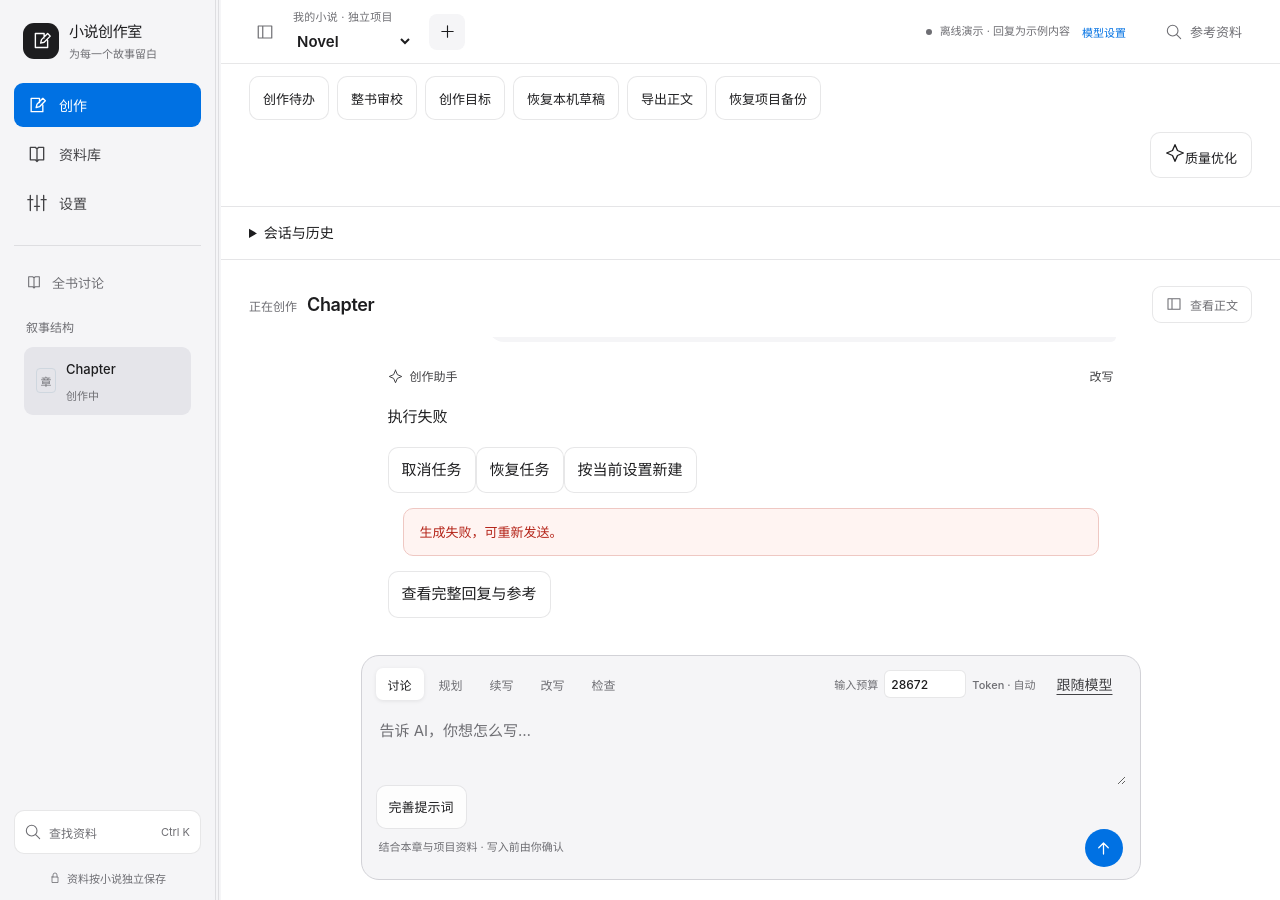
it: explicitly creates a linked new job from full instructions and current saved revision
(page scrolled)
Expected: the text box named "给 AI 的消息" is shown, [376, 702, 1126, 785]
Click the button "按当前设置新建" at point(630, 470), box [564, 447, 696, 493]
(page scrolled)
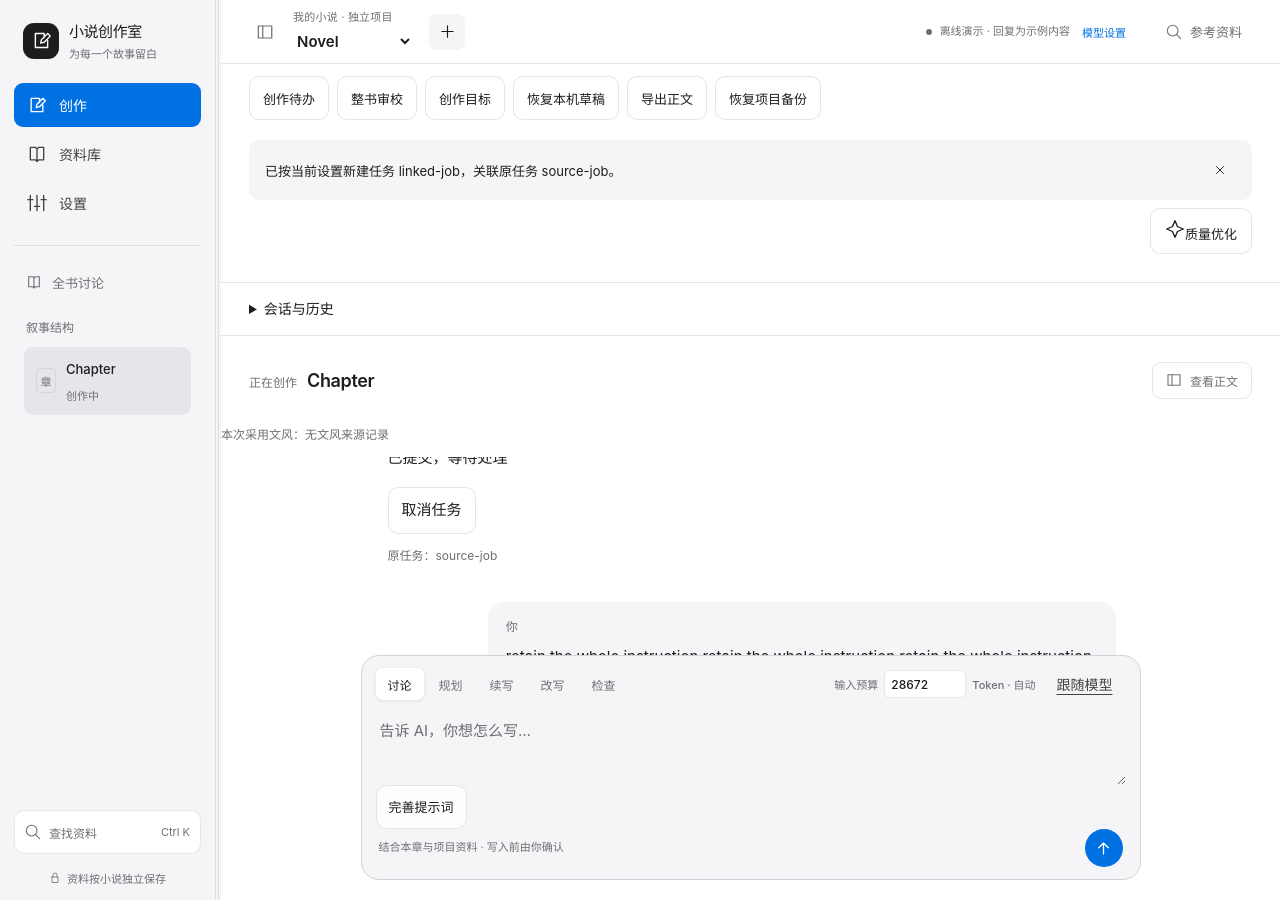
Expected: the text "原任务：source-job" is shown, [388, 548, 497, 563]
